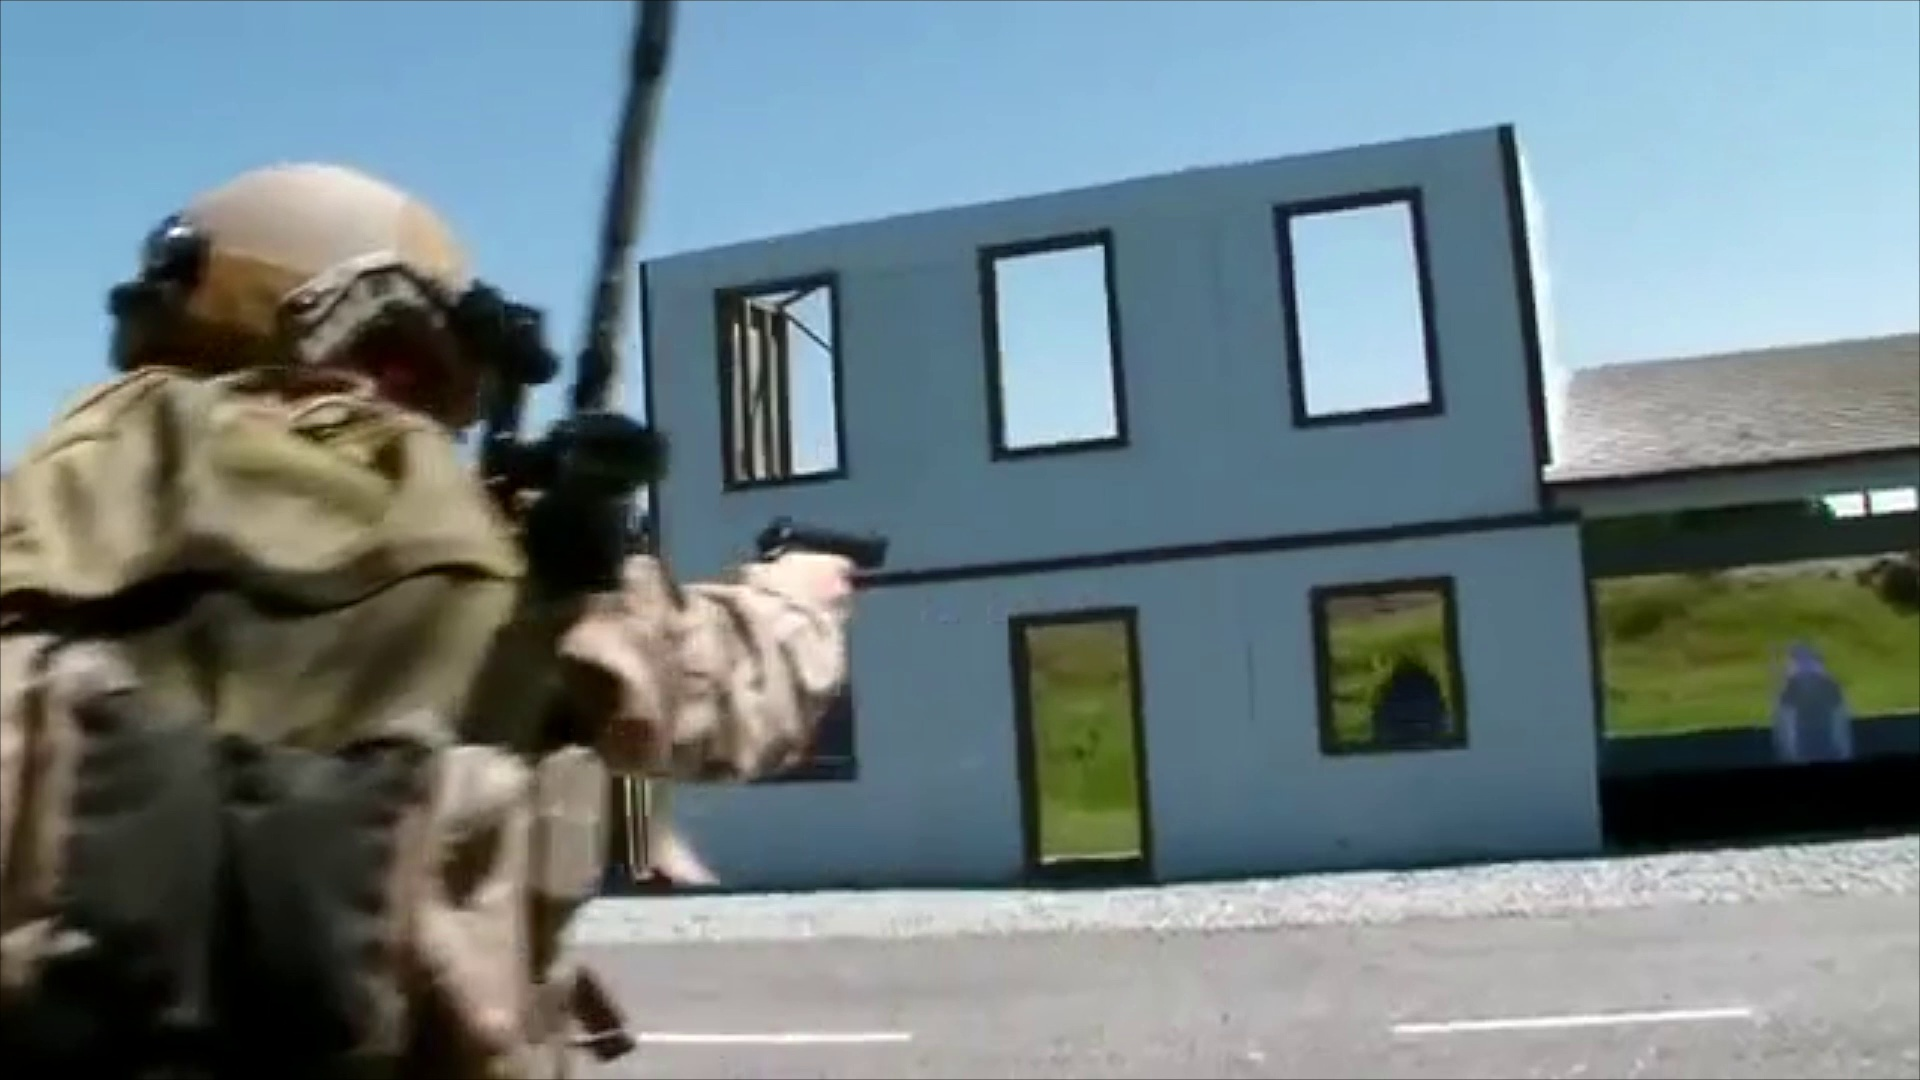gun: (752, 506, 898, 576)
